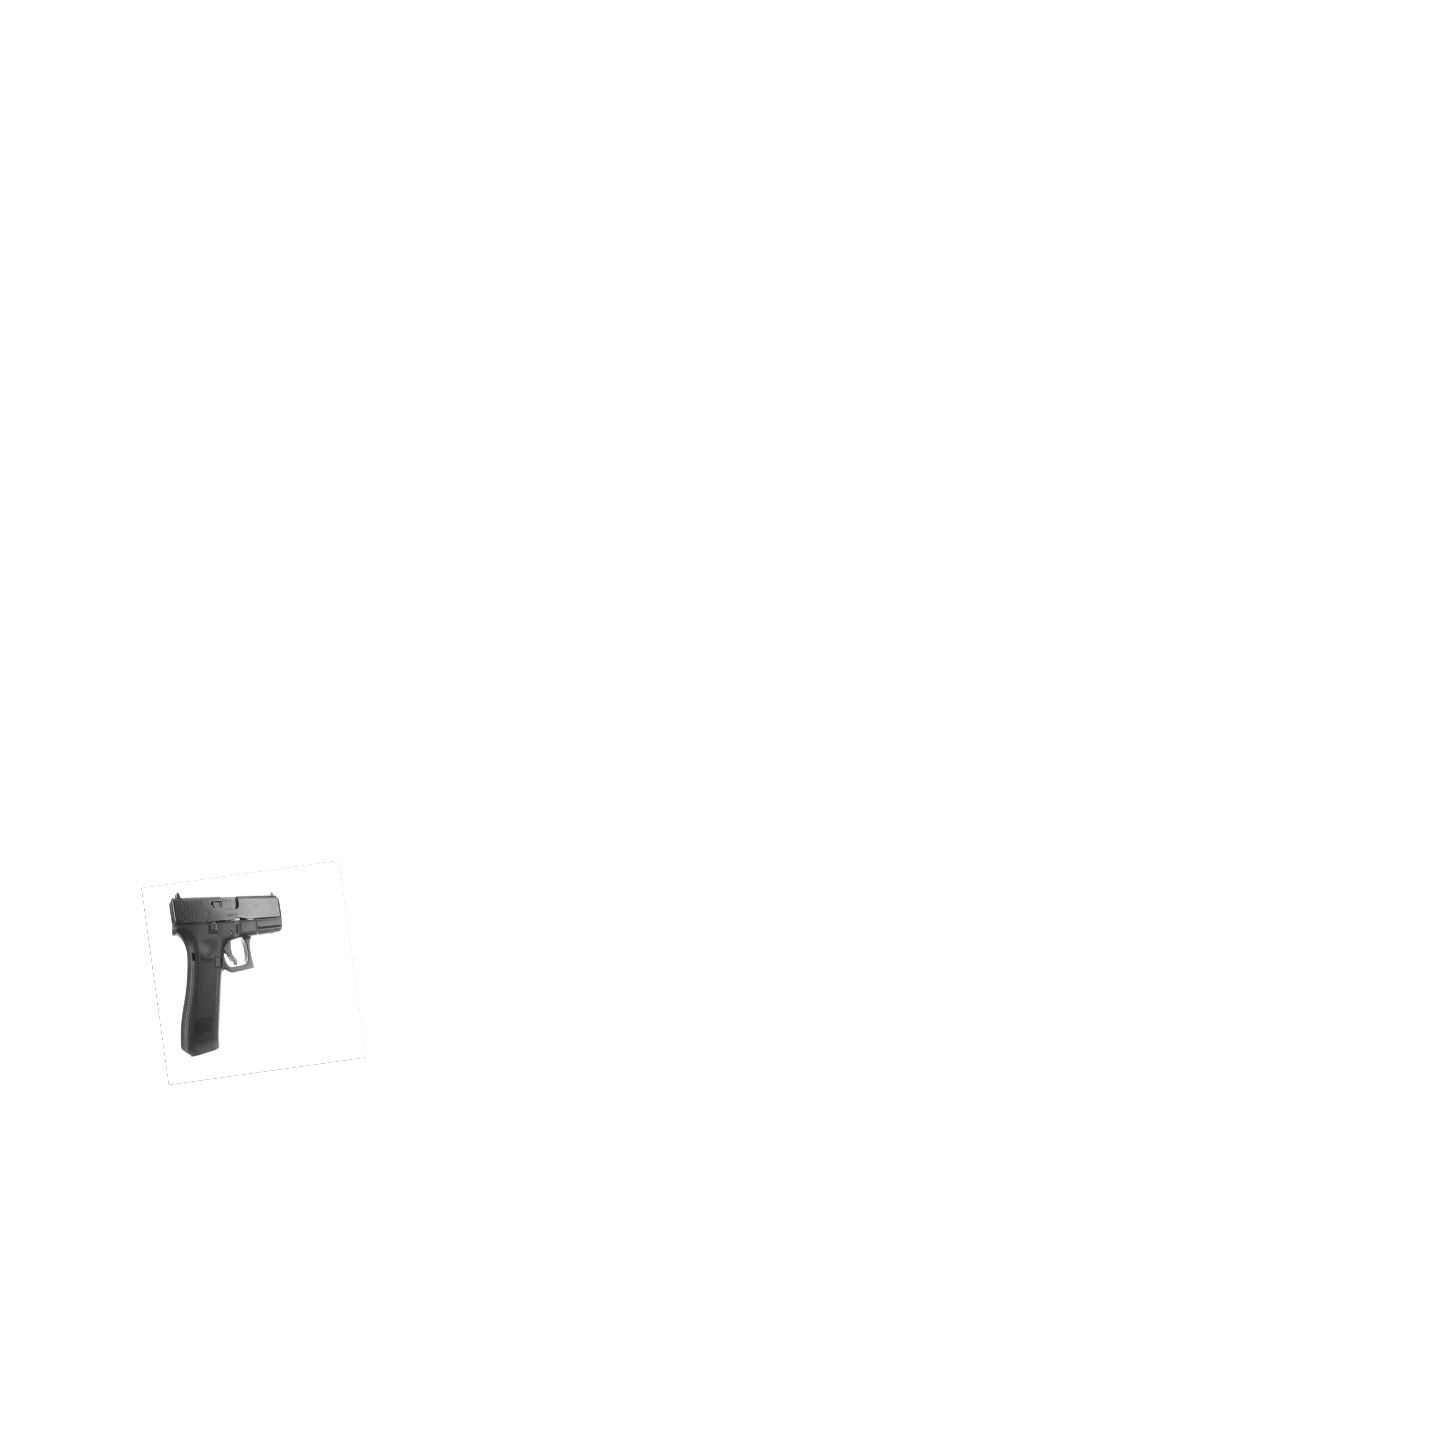gunw: (165, 888, 288, 1053)
